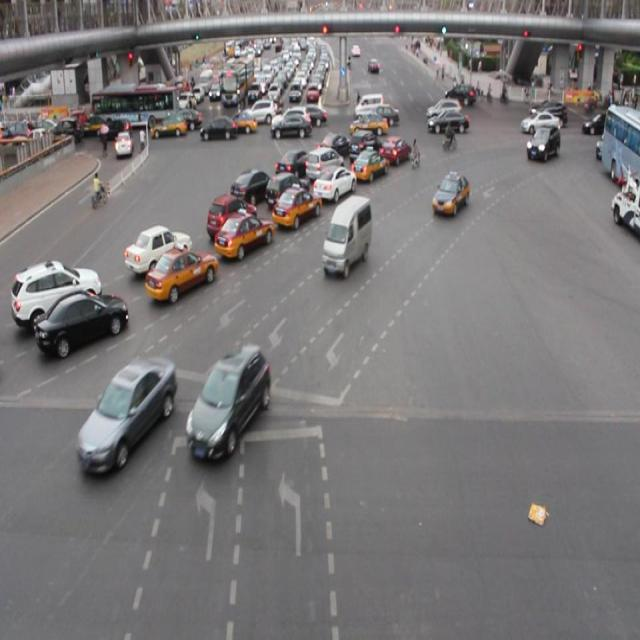car: (79, 359, 173, 471), (187, 345, 270, 457), (34, 287, 128, 351), (14, 259, 100, 322), (145, 246, 216, 298), (124, 226, 191, 272), (214, 209, 273, 258), (206, 194, 258, 238), (272, 186, 320, 230), (431, 170, 468, 220), (266, 170, 310, 208), (231, 167, 273, 206), (313, 166, 355, 201), (348, 146, 387, 183), (276, 149, 314, 182), (525, 125, 558, 163), (378, 134, 411, 168), (347, 129, 377, 165), (317, 133, 350, 163)
truck: (324, 194, 370, 276), (304, 148, 343, 186)
